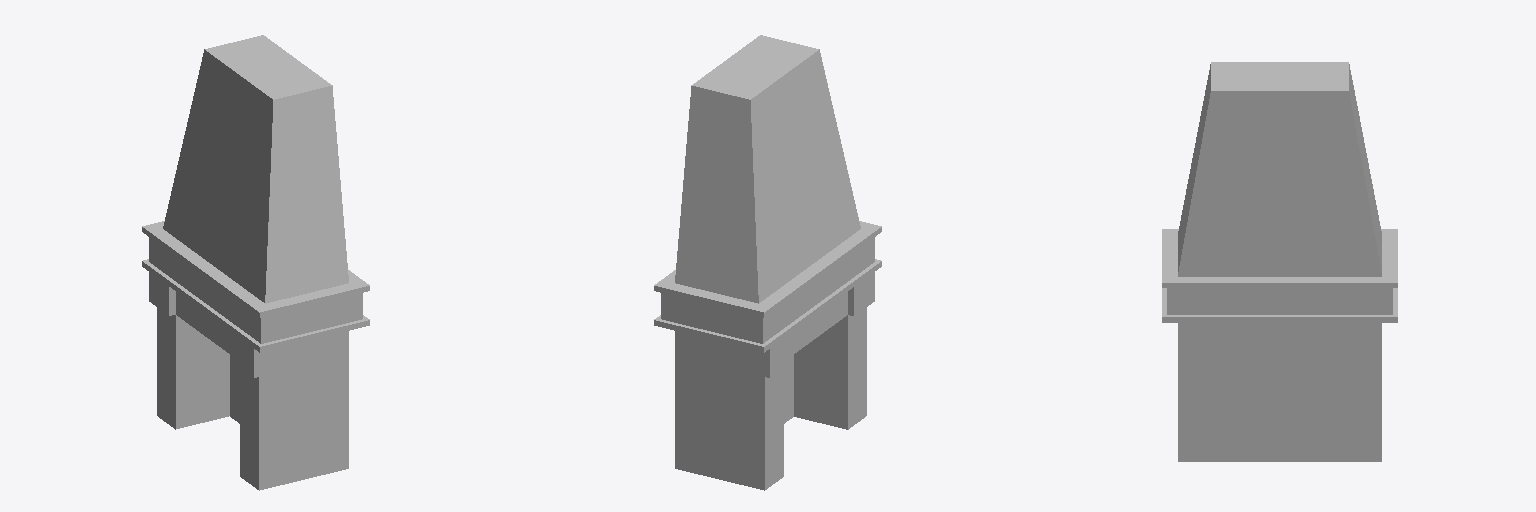
Rendered from fireplace.obj.
3 views of the same model, side by side, from view 1: azimuth 30°, elevation 25°; view 2: azimuth 150°, elevation 25°; view 3: azimuth 270°, elevation 25° (orthographic).
Visible parts, largest first — view 1: polySurface2285 polySurface2103; view 2: polySurface2285 polySurface2103; view 3: polySurface2285 polySurface2103.
Boxes of the visible parts, x1,y1,x2,y2 form: polySurface2285 polySurface2103: [142, 35, 369, 490]; polySurface2285 polySurface2103: [654, 35, 881, 490]; polySurface2285 polySurface2103: [1162, 62, 1397, 461].
Size of the model in its own units: 0.9361 by 3 by 1.73.